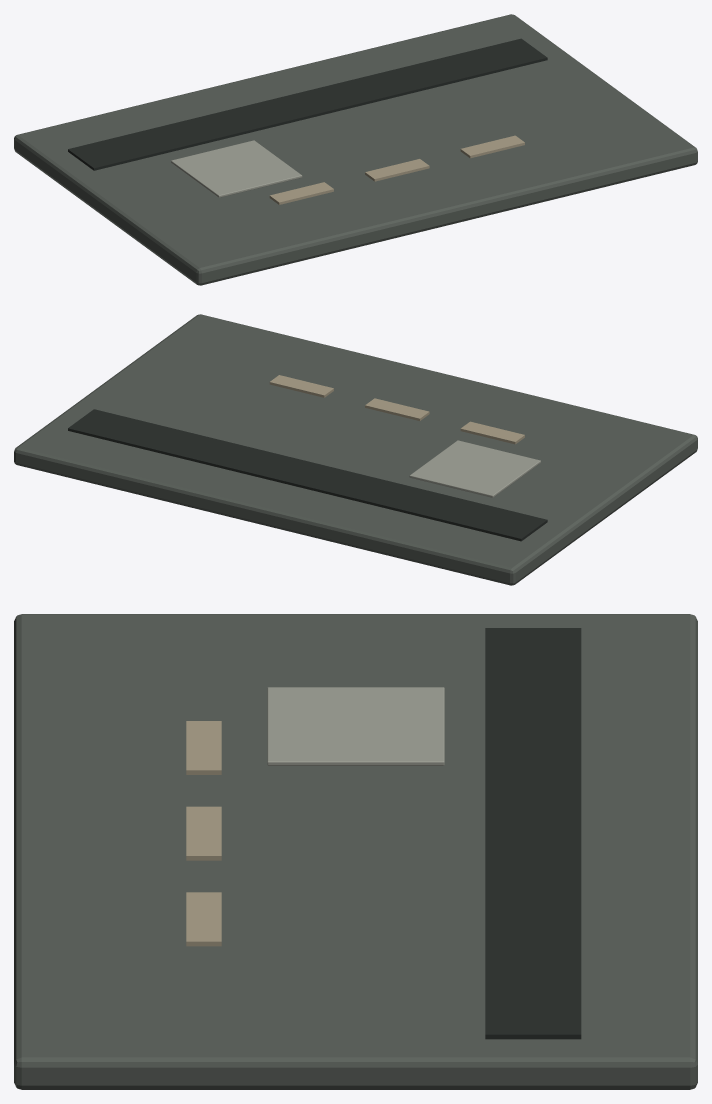
The model's file is security_card.glb.
3 renders of one model, top to bottom at view 1: azimuth 30°, elevation 25°; view 2: azimuth 150°, elevation 25°; view 3: azimuth 270°, elevation 25°, orthographic. The views are drawn at different scales.
Parts seen in each view (by area): view 1: security_card; view 2: security_card; view 3: security_card.
Part boxes in pixels (<box>): security_card: <box>14,14,697,285</box>; security_card: <box>14,314,697,585</box>; security_card: <box>14,614,697,1089</box>.
Size of the model in its own units: 0.21 by 0.008 by 0.135.
